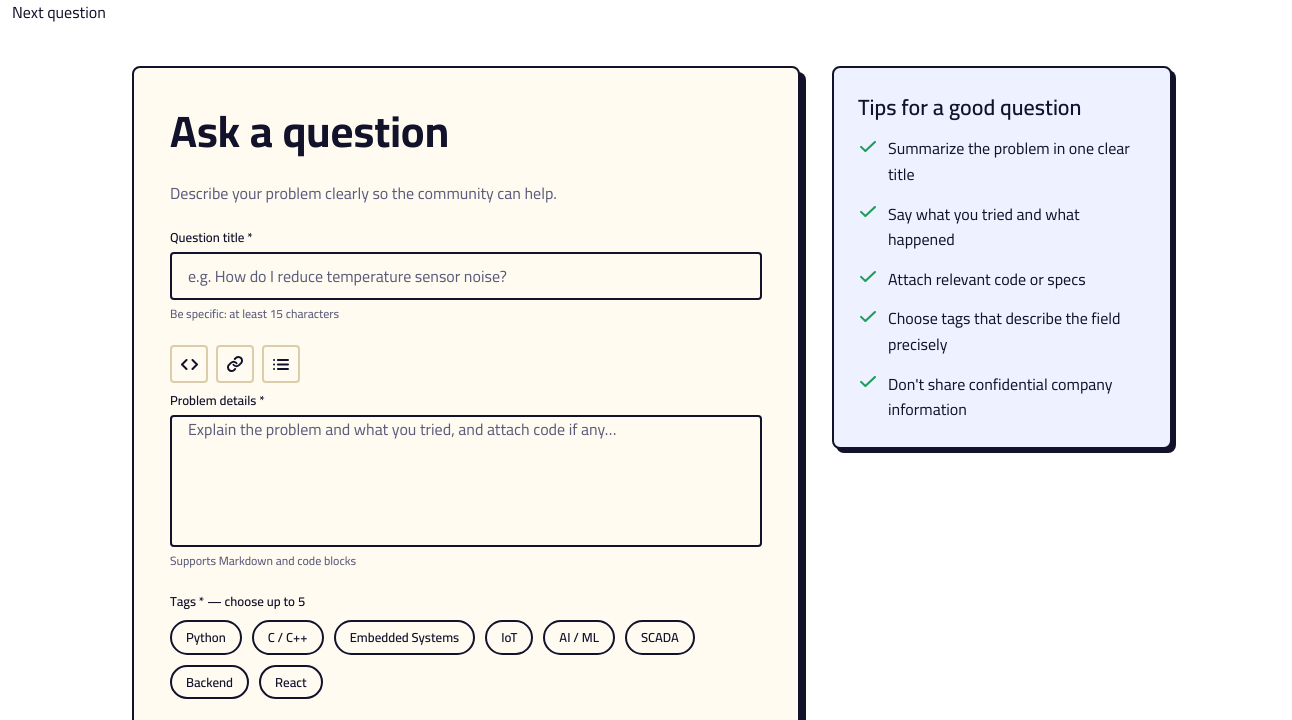
Test: community workflows › saves a draft across in-app navigation and posts a local question
Type "How can I calibrate this sensor?" into the field labelled "Question title *" at (466,276), box [170,252,762,300]
Replace the text in the text box labelled "Problem details *" with "I measured the sensor output twice and need help understanding the difference." at (466,481), box [170,415,762,547]
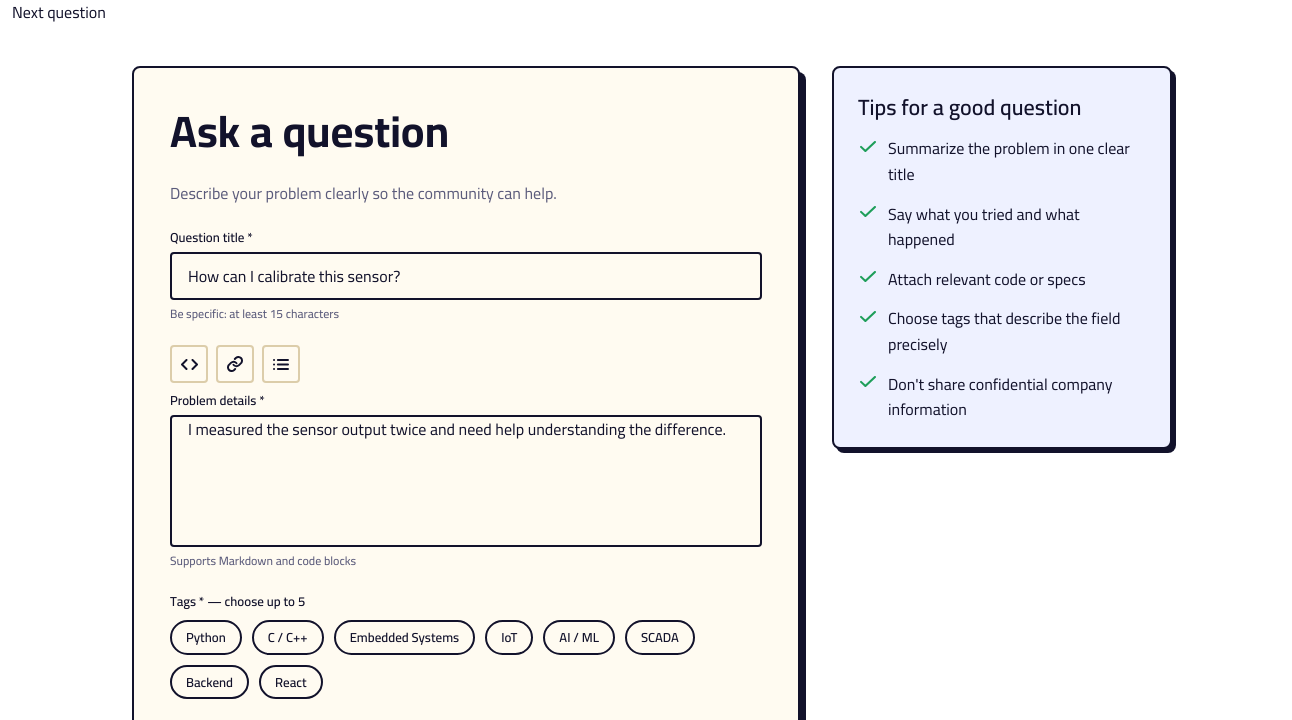
Click the button "IoT" at (509,637), box [485,620,533,654]
(page scrolled)
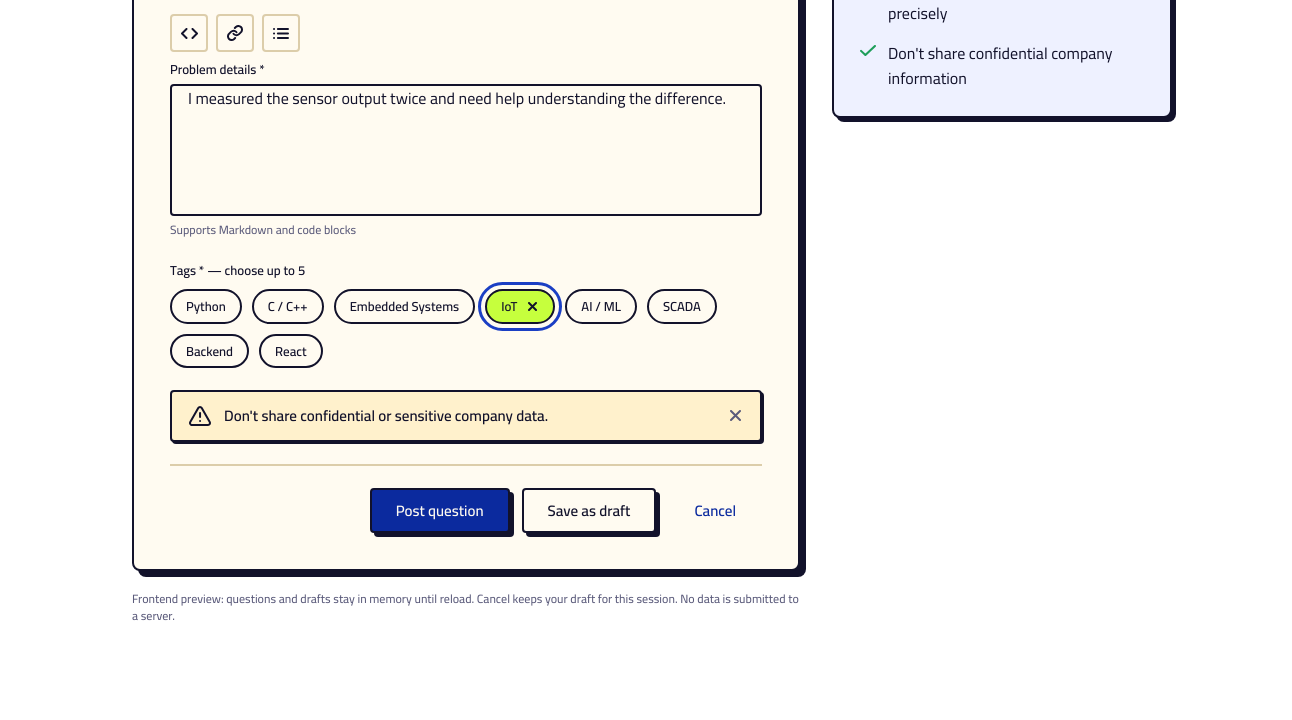
Click the button "Save as draft" at (589,510), box [522,488,656,533]
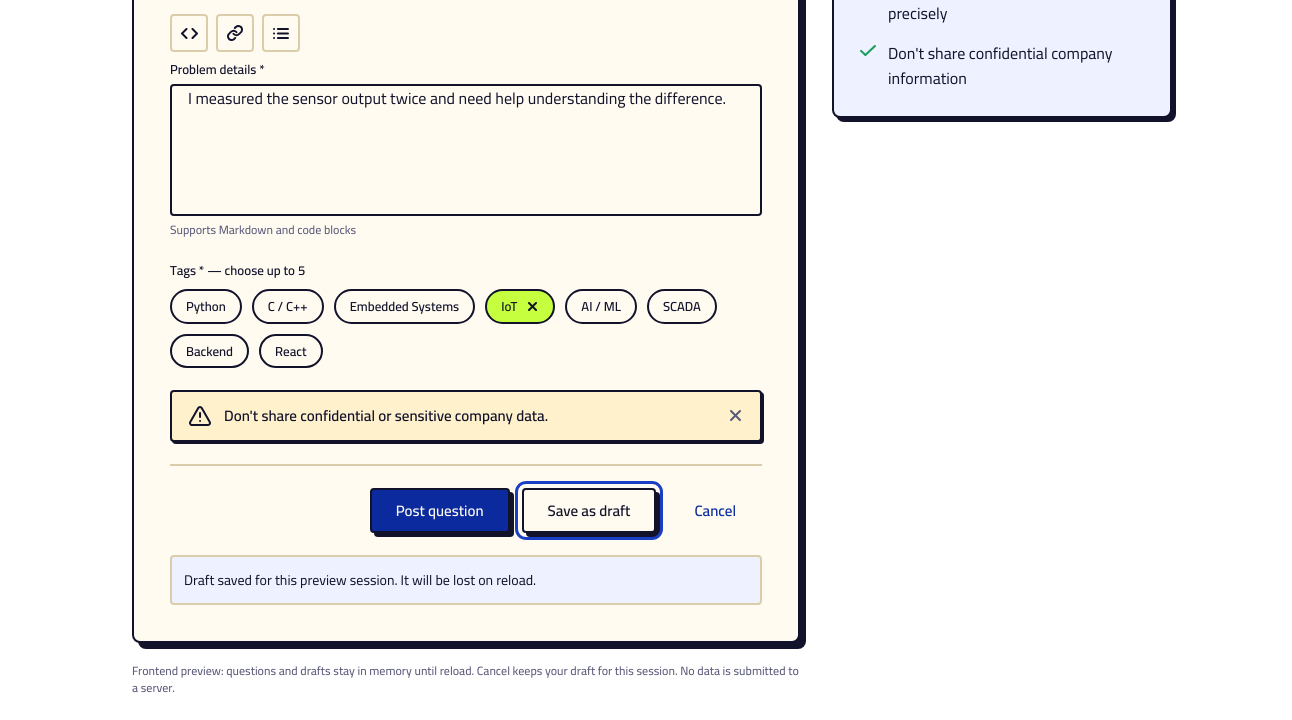
Now the message shows "lost on reload", box [184,567,536,593]
Click the button "Cancel" at (715,510), box [668,488,762,533]
(page scrolled)
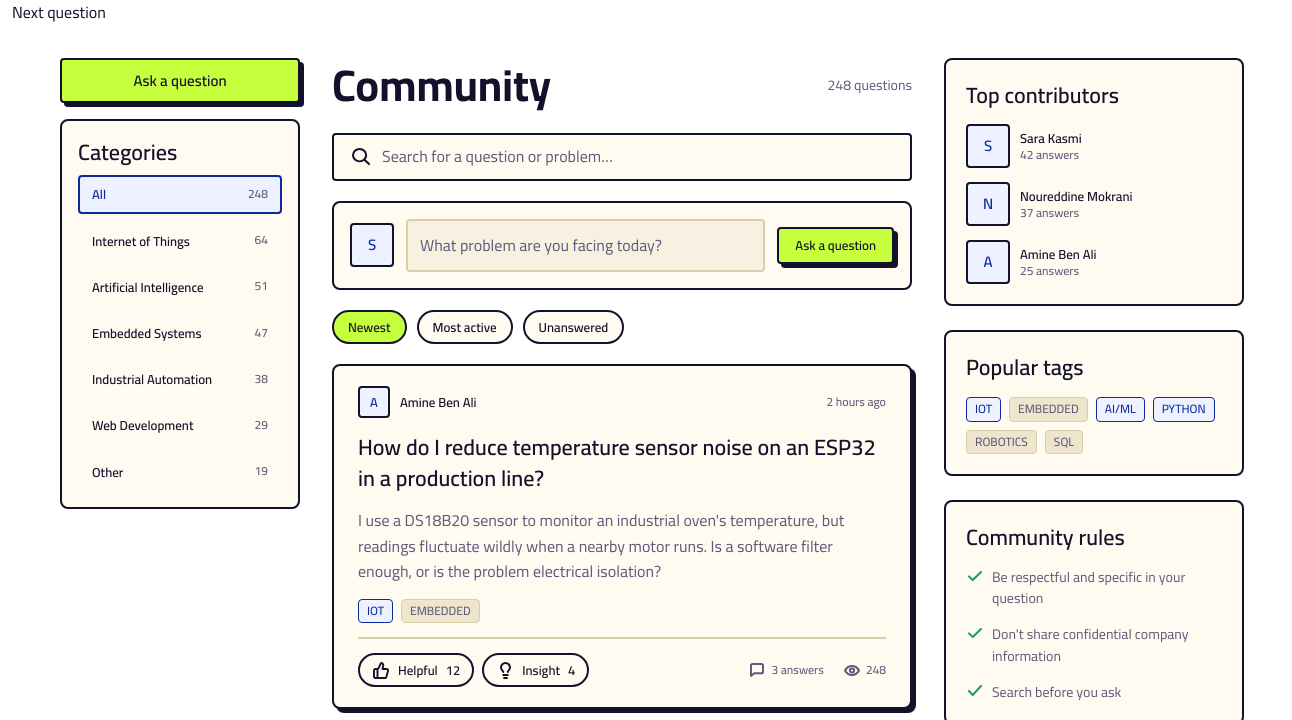
Click the 1st button "Ask a question" at (180,80), box [60,58,300,103]
(page scrolled)
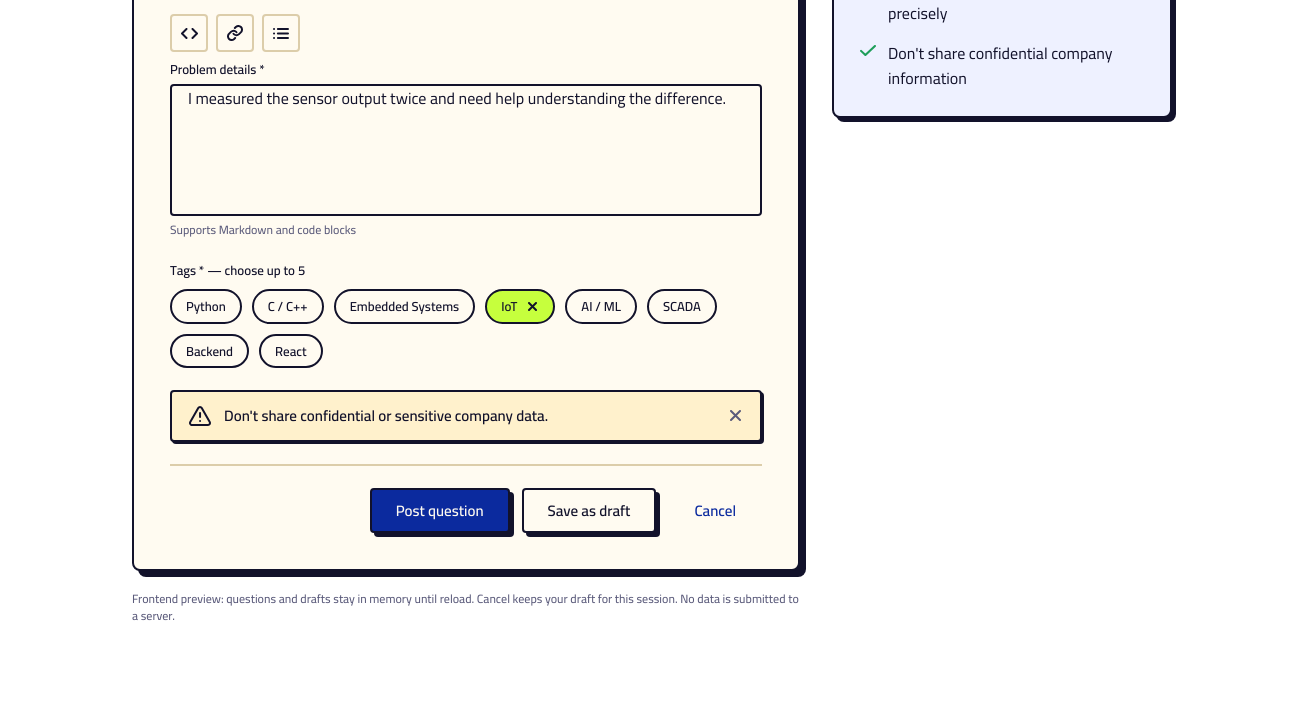
Click the button "Post question" at (440,510), box [370,488,510,533]
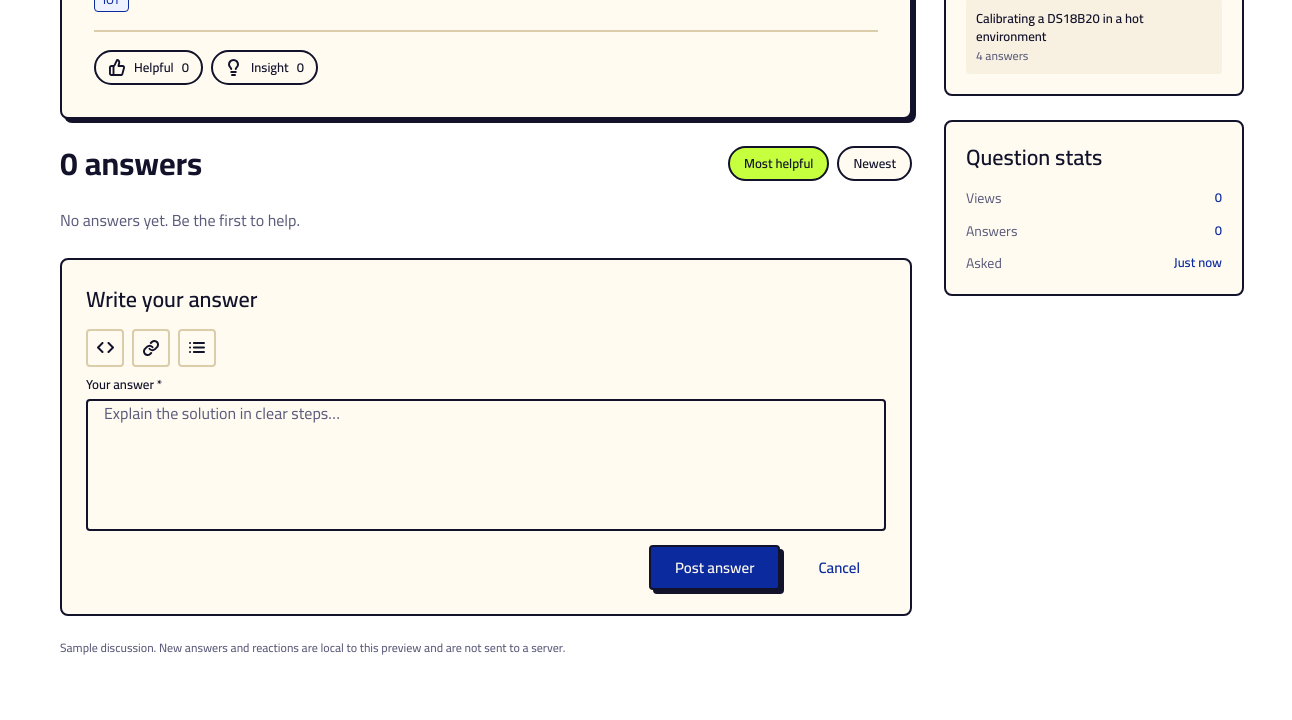
Now the text "No answers yet. Be the first to help." is shown, box [60,205,300,235]
